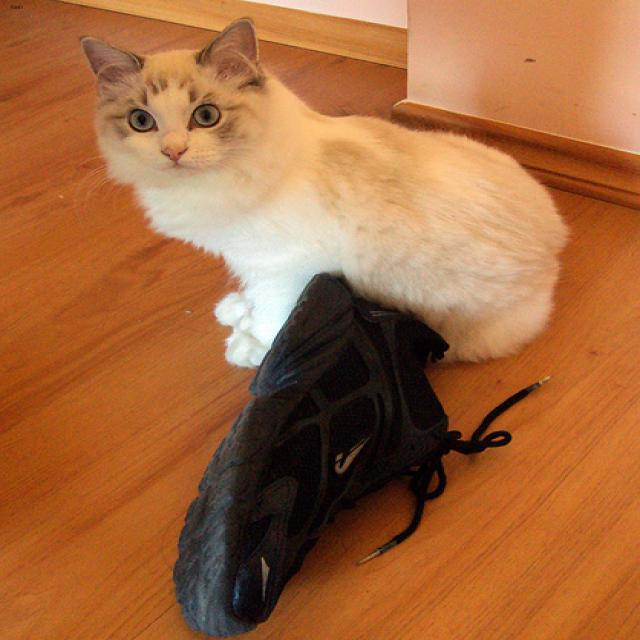Ragdoll: (78, 14, 256, 179)
